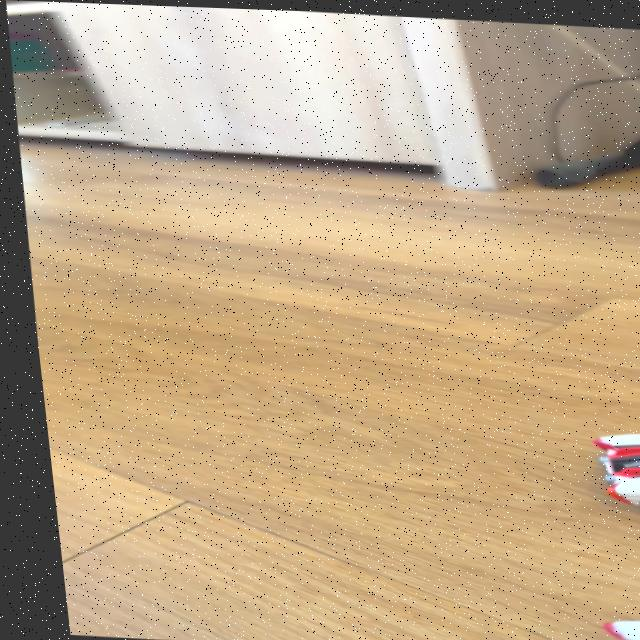mario: (561, 398, 640, 507)
yoshi: (576, 602, 640, 640)
